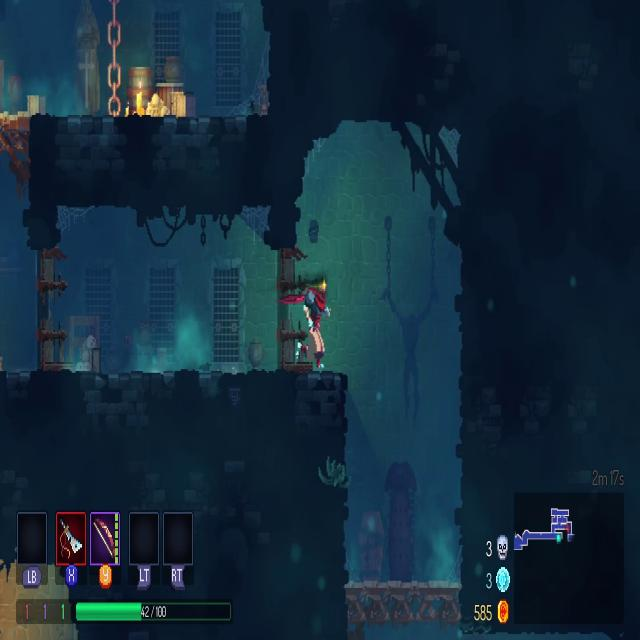agents: (303, 280, 333, 372)
wood_floor: (346, 575, 462, 628)
